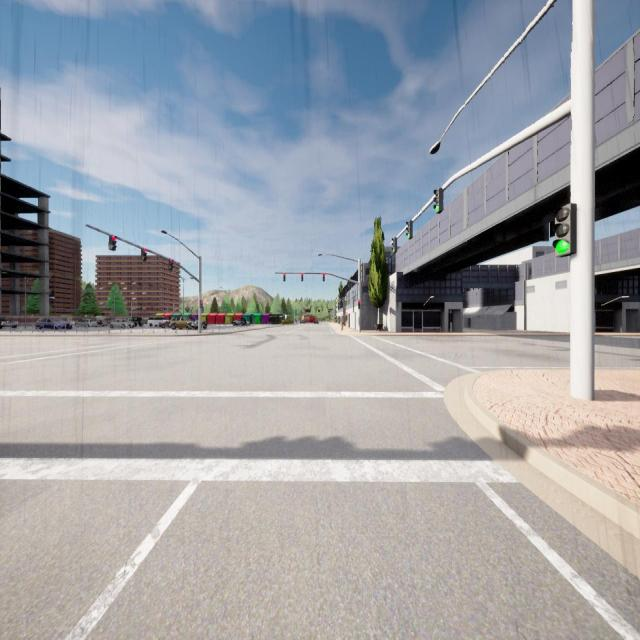Pedestrian: (341, 315, 344, 331)
Vehicle: (34, 316, 72, 330), (170, 314, 192, 330), (110, 318, 134, 329), (148, 316, 169, 328), (0, 317, 17, 328), (78, 319, 98, 327), (192, 320, 207, 330), (129, 317, 143, 327), (301, 314, 316, 323), (232, 317, 245, 326), (98, 318, 109, 327), (246, 320, 250, 326), (314, 320, 319, 324), (300, 320, 304, 324)
traffic_light: (552, 202, 577, 257), (433, 188, 444, 214), (406, 220, 413, 240), (109, 235, 116, 251), (392, 238, 397, 254), (141, 248, 147, 261), (169, 259, 173, 270), (283, 273, 286, 281), (323, 273, 325, 282), (358, 300, 360, 309), (200, 300, 202, 308), (301, 273, 303, 281)
